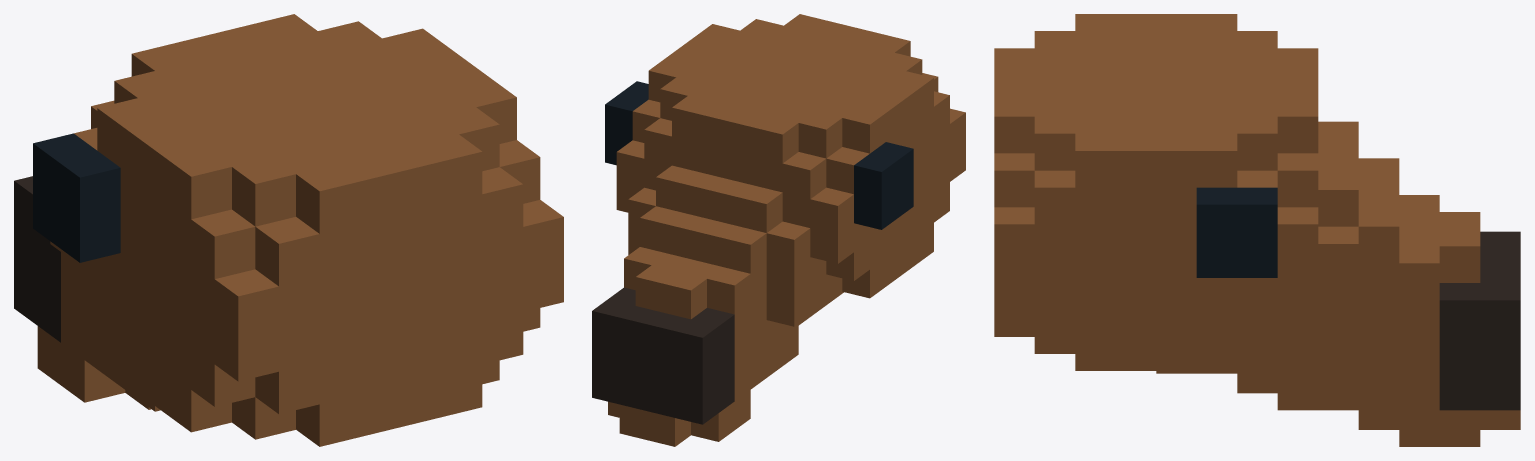
The model's file is head.glb.
The picture shows the model from 3 angles, left to right: view 1: azimuth 30°, elevation 25°; view 2: azimuth 150°, elevation 25°; view 3: azimuth 270°, elevation 25°; orthographic projection. The views are drawn at different scales.
Visible parts, largest first — view 1: VoxelVisual; view 2: VoxelVisual; view 3: VoxelVisual.
Part boxes in pixels (box(x1,y1,x2,y2)): VoxelVisual: box(14, 14, 563, 446); VoxelVisual: box(592, 14, 965, 446); VoxelVisual: box(994, 14, 1520, 446).
Size of what is drawn, in the model's own units: 0.625 by 0.5625 by 0.8125.
